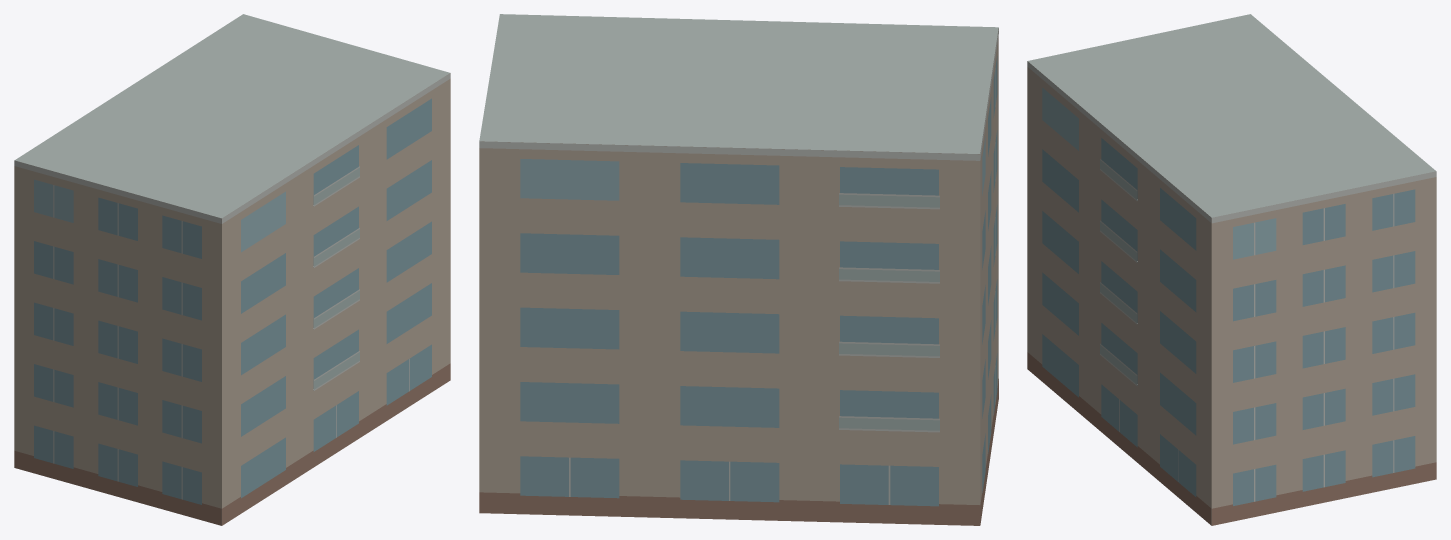
Rendered from survey-upis-32705139.glb.
3 views of the same model, side by side, from view 1: azimuth 30°, elevation 25°; view 2: azimuth 150°, elevation 25°; view 3: azimuth 270°, elevation 25° (orthographic). The views are drawn at different scales.
Parts seen in each view (by area): view 1: survey-upis-32705139.tmp; view 2: survey-upis-32705139.tmp; view 3: survey-upis-32705139.tmp.
Boxes of the visible parts, <box> form: survey-upis-32705139.tmp: <box>14,14,450,525</box>; survey-upis-32705139.tmp: <box>479,14,998,525</box>; survey-upis-32705139.tmp: <box>1027,14,1436,525</box>.
Size of the model in its own units: 18.87 by 13.3 by 16.01.
